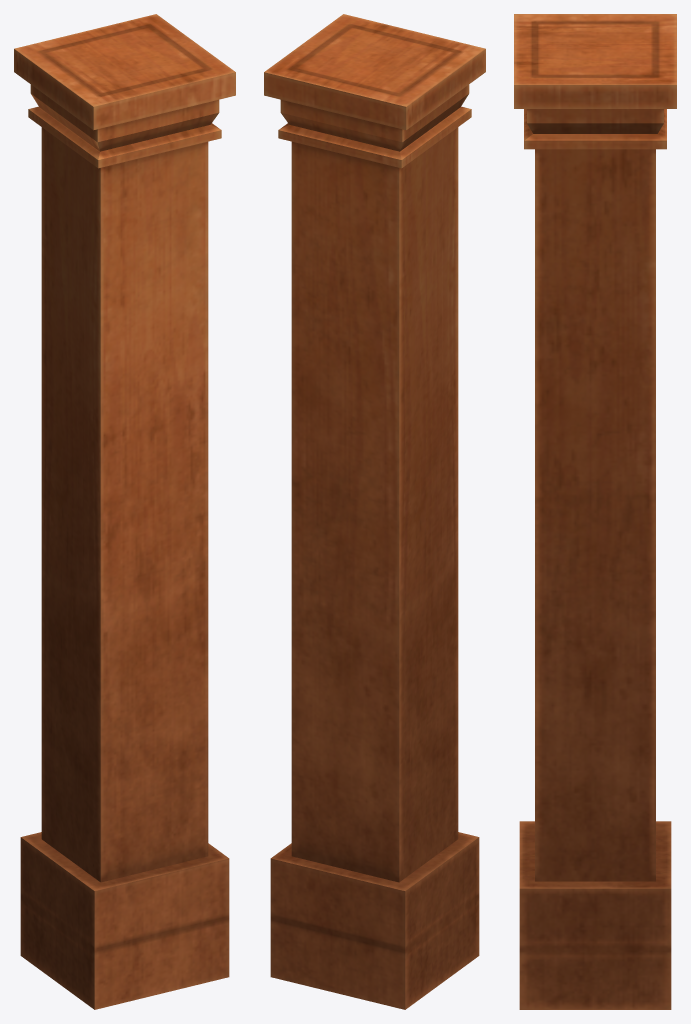
Rendered from Brown Post.gltf.
3 renders of one model, left to right at view 1: azimuth 30°, elevation 25°; view 2: azimuth 150°, elevation 25°; view 3: azimuth 270°, elevation 25°, orthographic. The views are drawn at different scales.
Visible parts, largest first — view 1: Fence_Post1_Frames_MAT_0.001; view 2: Fence_Post1_Frames_MAT_0.001; view 3: Fence_Post1_Frames_MAT_0.001.
Boxes of the visible parts, x1=… form: Fence_Post1_Frames_MAT_0.001: x1=14, y1=14, x2=235, y2=1009; Fence_Post1_Frames_MAT_0.001: x1=264, y1=14, x2=485, y2=1009; Fence_Post1_Frames_MAT_0.001: x1=514, y1=14, x2=676, y2=1009.
Size of the model in its own units: 0.1952 by 1.19 by 0.1888.
